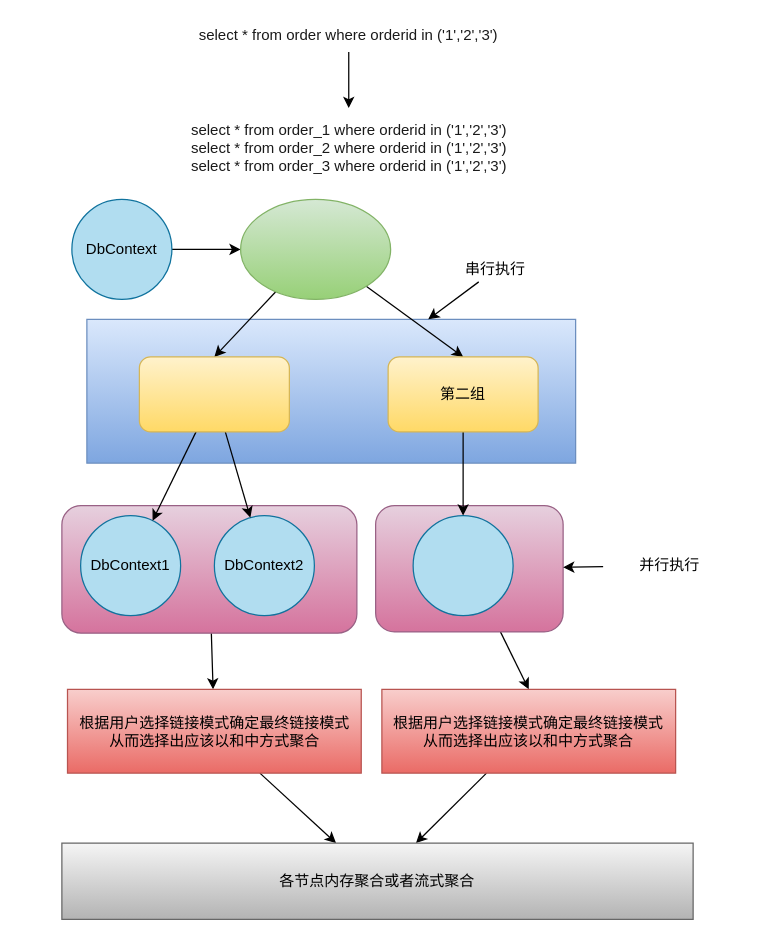
The diagram is 758 pixels wide and 941 high, and some of its shapes have lost their labels. The box of each missing label's shape, as (x1, y1, x2, y2) in pixels:
DbContext3: (412, 514, 513, 616)
第一组: (138, 356, 289, 432)
路由: (239, 198, 391, 299)
